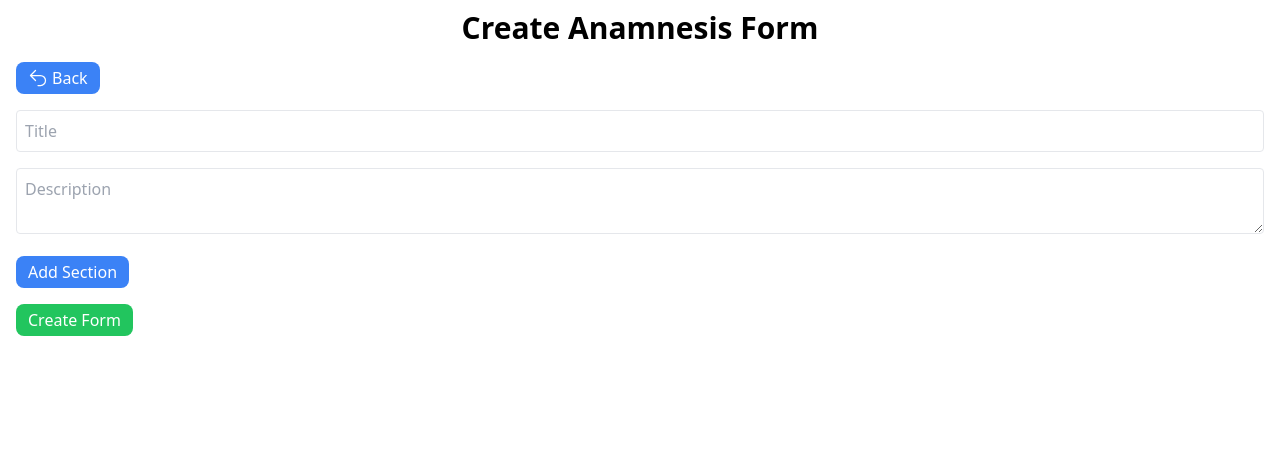
Test: CreateAnamnesisForm › renders the form and allows adding a section
This screenshot has width=1280, height=453.
Type "New Anamnesis Form" into the field with placeholder "Title".
click(640, 131); type("New Anamnesis Form")  # box [16,110,1264,152]
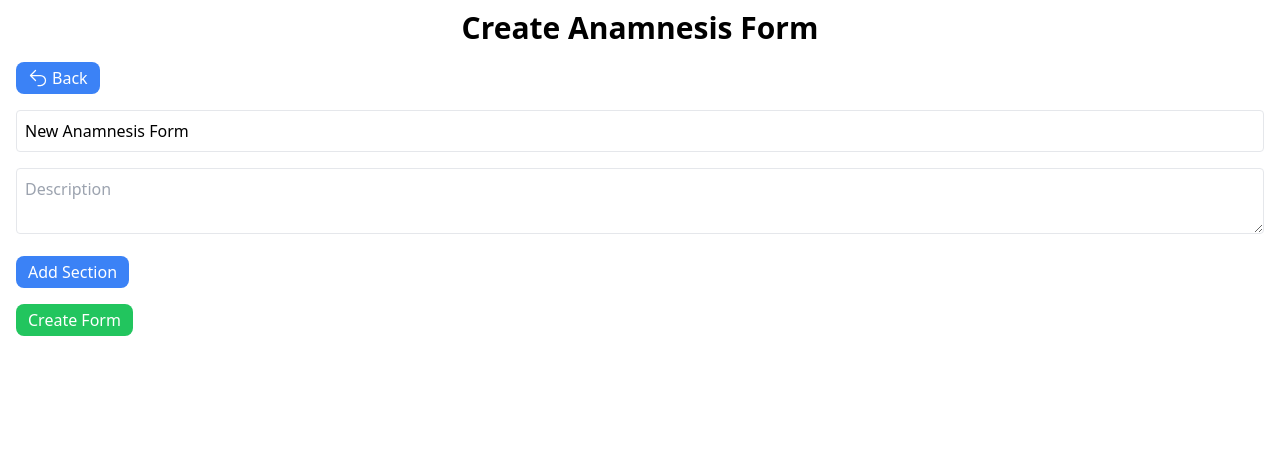
Type "This is a description" into the text box with placeholder "Description".
click(640, 201); type("This is a description")  # box [16,168,1264,234]
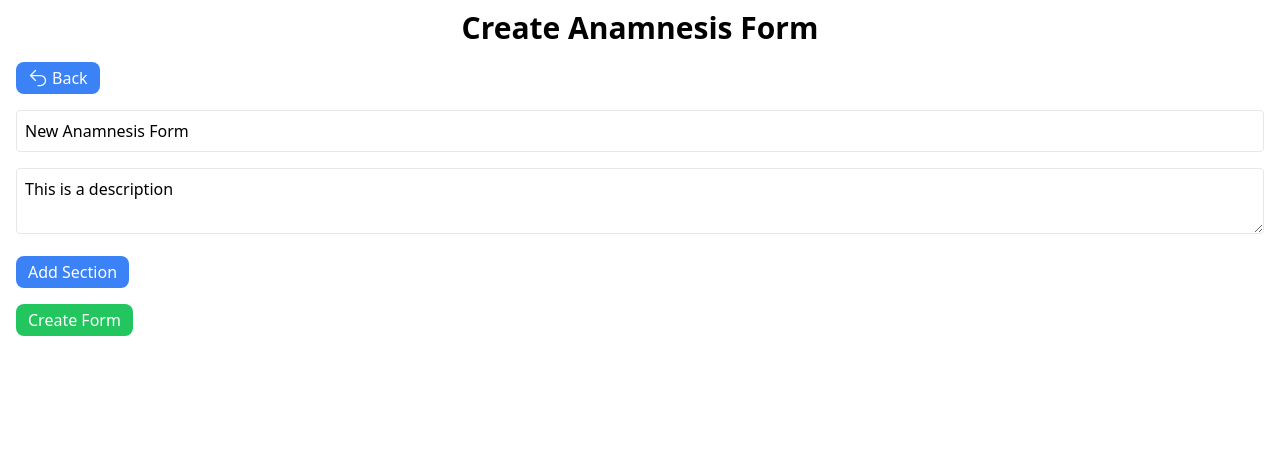
Click the button "Add Section".
click(72, 272)  # box [16,256,129,288]
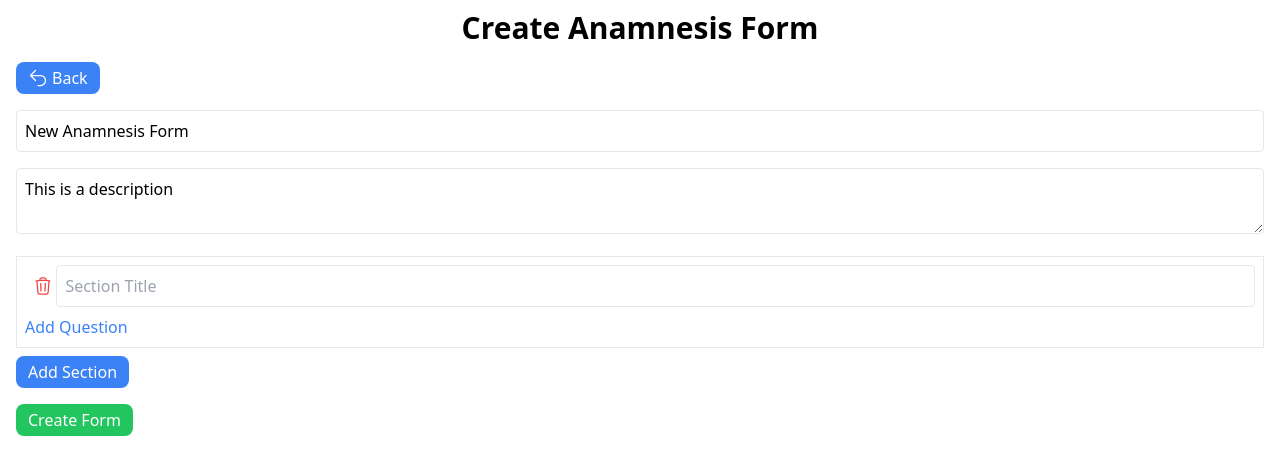
Expected: the field with placeholder "Section Title" is shown, [56,265,1255,307]
